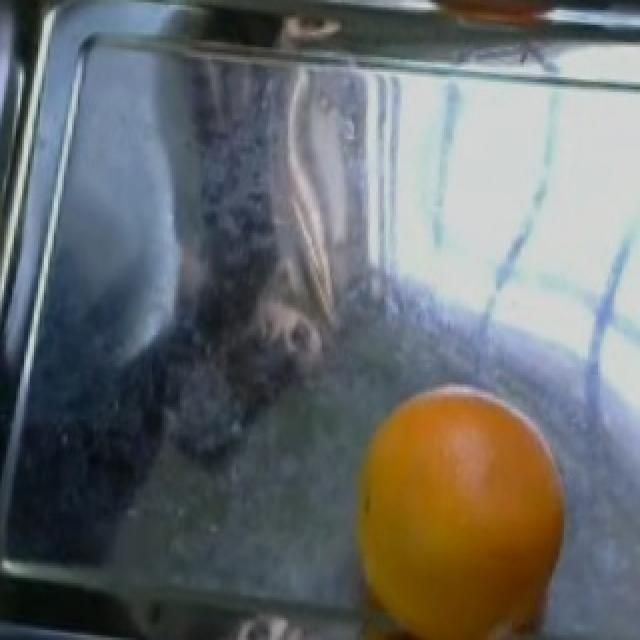Fruit: (338, 372, 586, 638)
